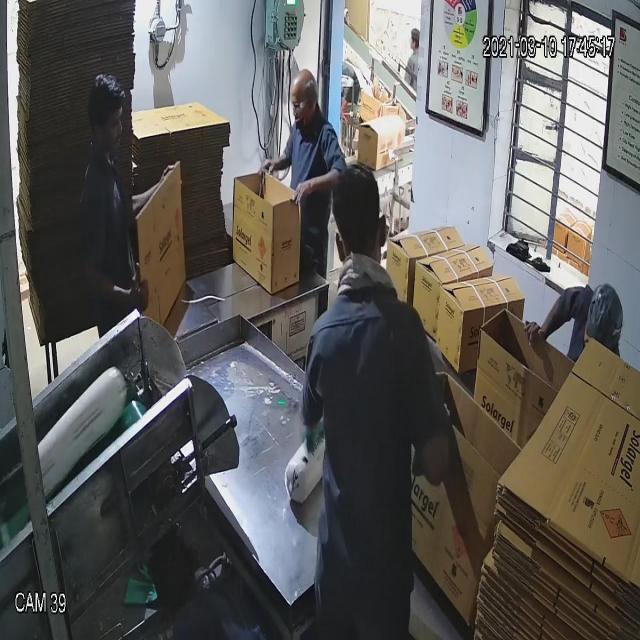No_Gloves: (58, 38, 550, 318)
